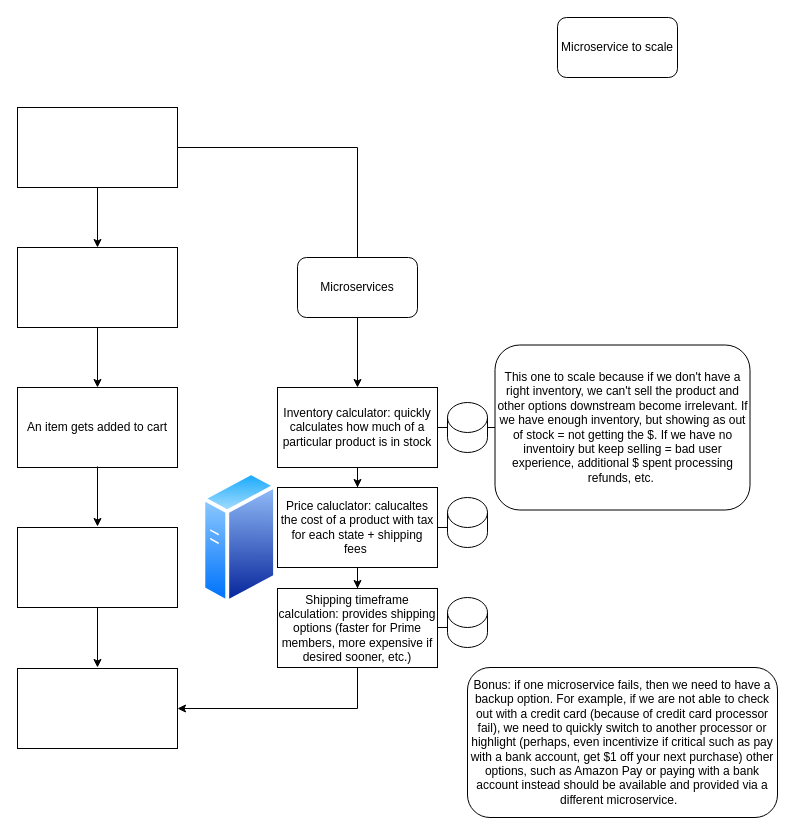
Image size: 795x835. Some labels were removed from this diagram. Here are the shapes that lost their labels. From the top down, the centre of each, then its label:
the point at 97,147: User clicks Add to Cart button
the point at 97,287: DNS/IP Address (Add to Cart button contains the correct path)
the point at 97,567: User goes to cart and looks at avaialble shipping/payment options
the point at 97,708: User checks out
